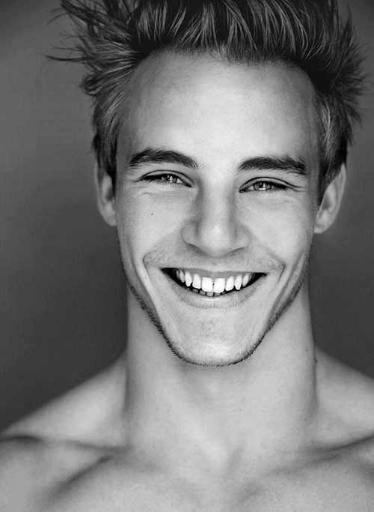left_eye: (241, 176, 297, 201)
left_lip_corner: (251, 268, 274, 292)
right_eye: (137, 169, 194, 195)
right_lip_corner: (158, 262, 175, 286)
